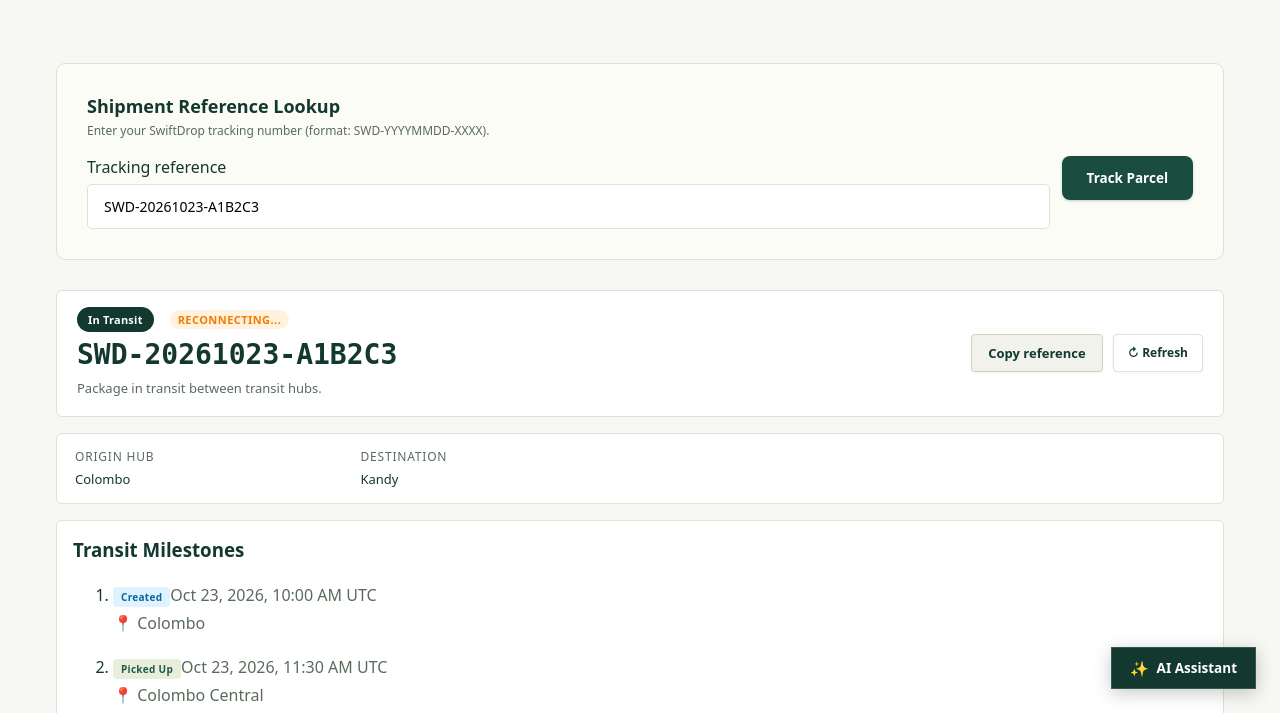
Test: Public Redacted Parcel Tracking (Issue #133 / N10-WF06) › copy reference › copies tracking reference to clipboard
(page scrolled)
Check: the heading "SWD-20261023-A1B2C3" is shown, box left=77, top=338, right=397, bottom=371
What coordinates should you click on to do the following:
click the button with aria-label "copy tracking reference"
I would click on:
 (1037, 353)
Its box is left=971, top=334, right=1103, bottom=372.
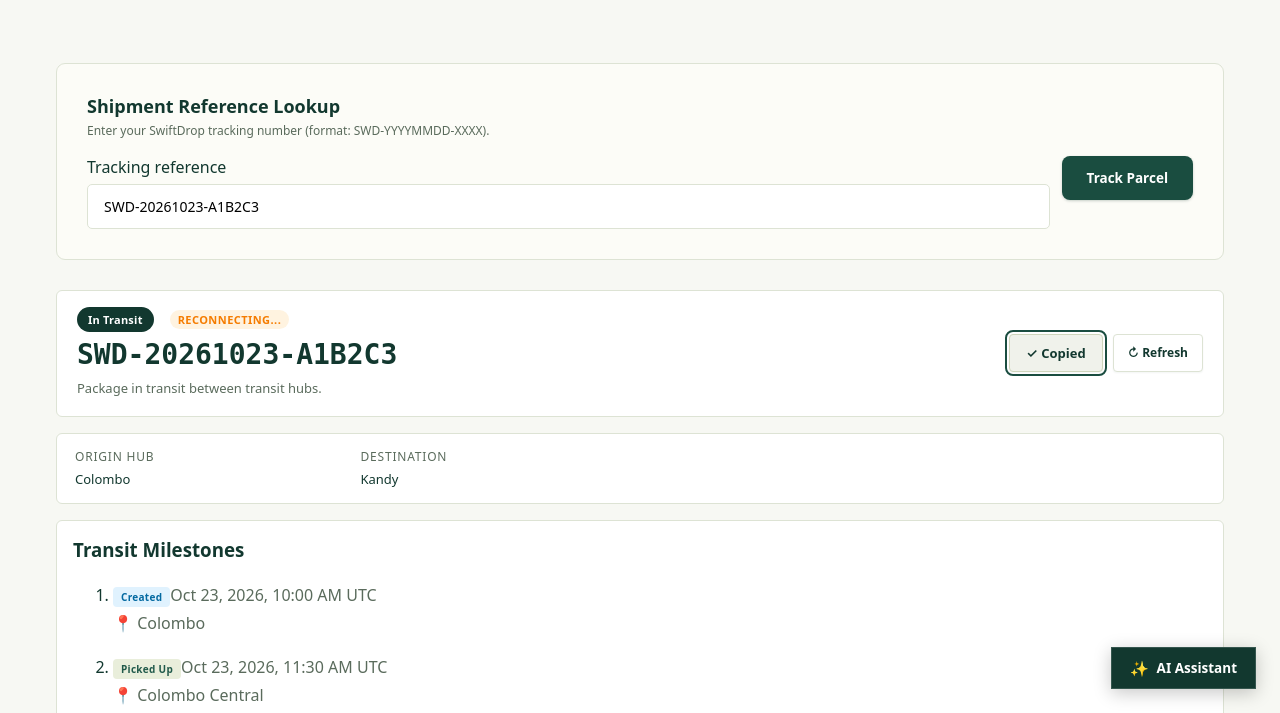
Check: the text "✓ Copied" is shown, box left=1026, top=344, right=1086, bottom=362
